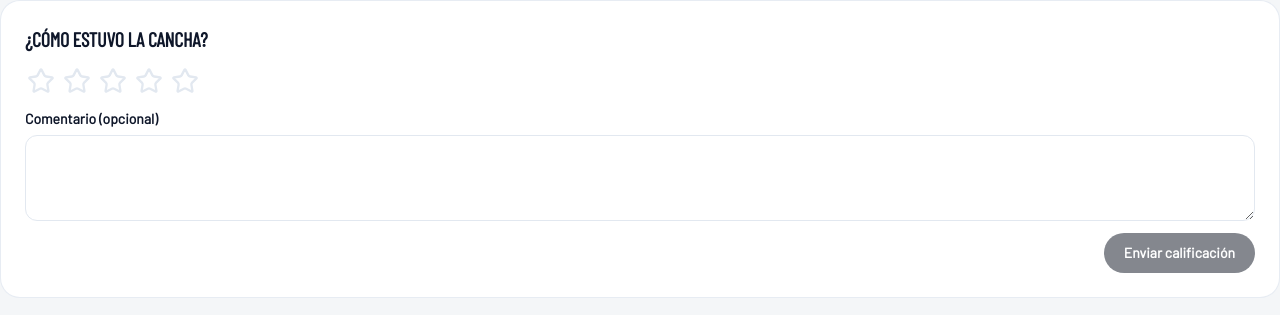
Test case: PanelCalificacion › exige elegir estrellas antes de enviar
Later steps or results of the test are not shown.
expect the button "Enviar calificación" is disabled: met, box [1104,233,1255,273]
Click the radio button named "4 estrellas". click: [149, 81]
box: [133,65,165,97]
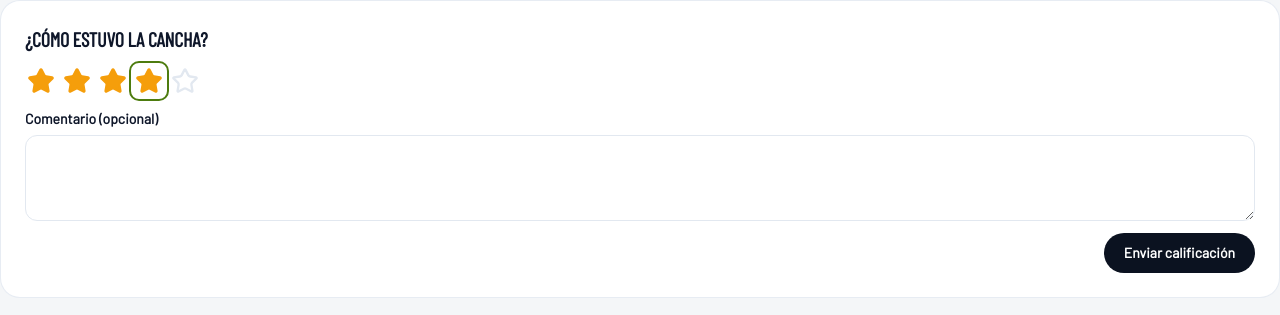
expect the button "Enviar calificación" is enabled: met, box [1104,233,1255,273]
